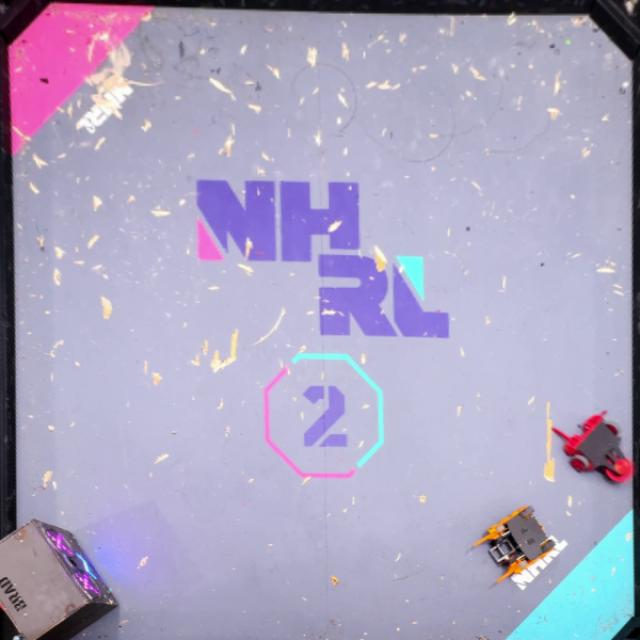housebot: (0, 520, 119, 640)
robot: (468, 504, 556, 584), (552, 413, 632, 482)
